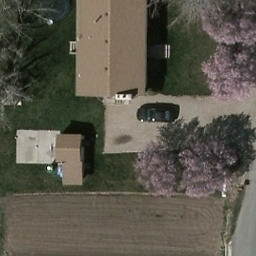car: (135, 106, 177, 126)
